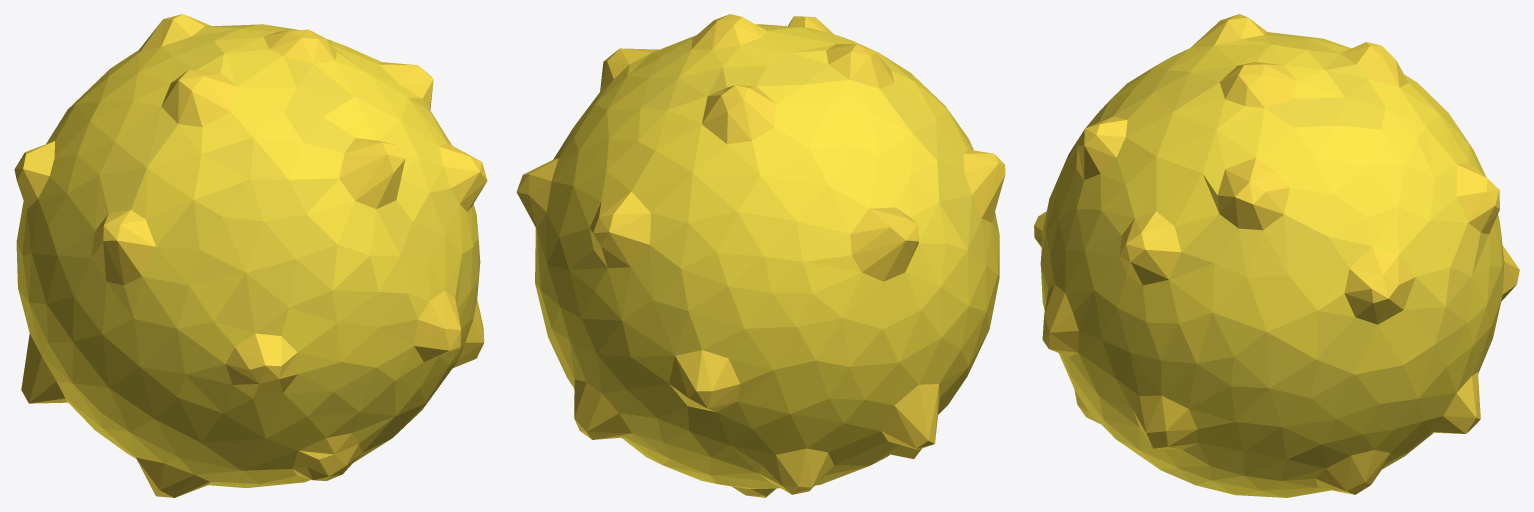
File: Sun.obj
3 views of the same model, side by side, from view 1: azimuth 30°, elevation 25°; view 2: azimuth 150°, elevation 25°; view 3: azimuth 270°, elevation 25° (orthographic).
Parts seen in each view (by area): view 1: Sun; view 2: Sun; view 3: Sun.
Boxes of the visible parts, x1,y1,x2,y2 form: Sun: (14, 14, 487, 497); Sun: (516, 14, 1005, 497); Sun: (1034, 14, 1519, 497).
Size of the model in its own units: 34.12 by 36.5 by 35.74.
1 material, 1 textured.
